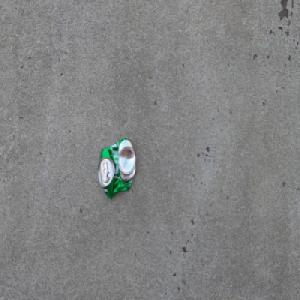SodaCan: (97, 137, 136, 200)
